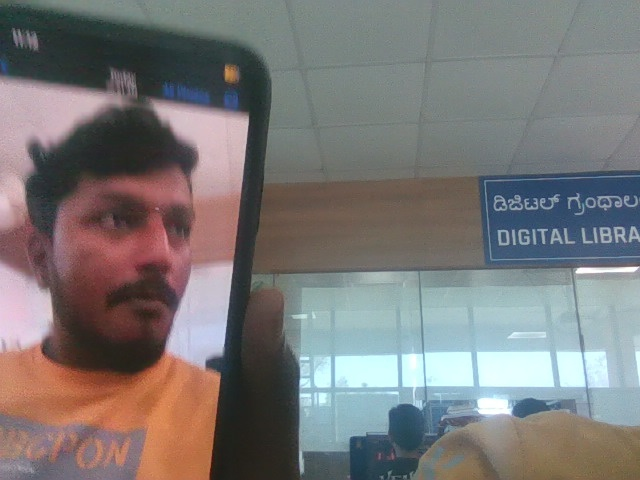fake: (24, 86, 223, 368)
